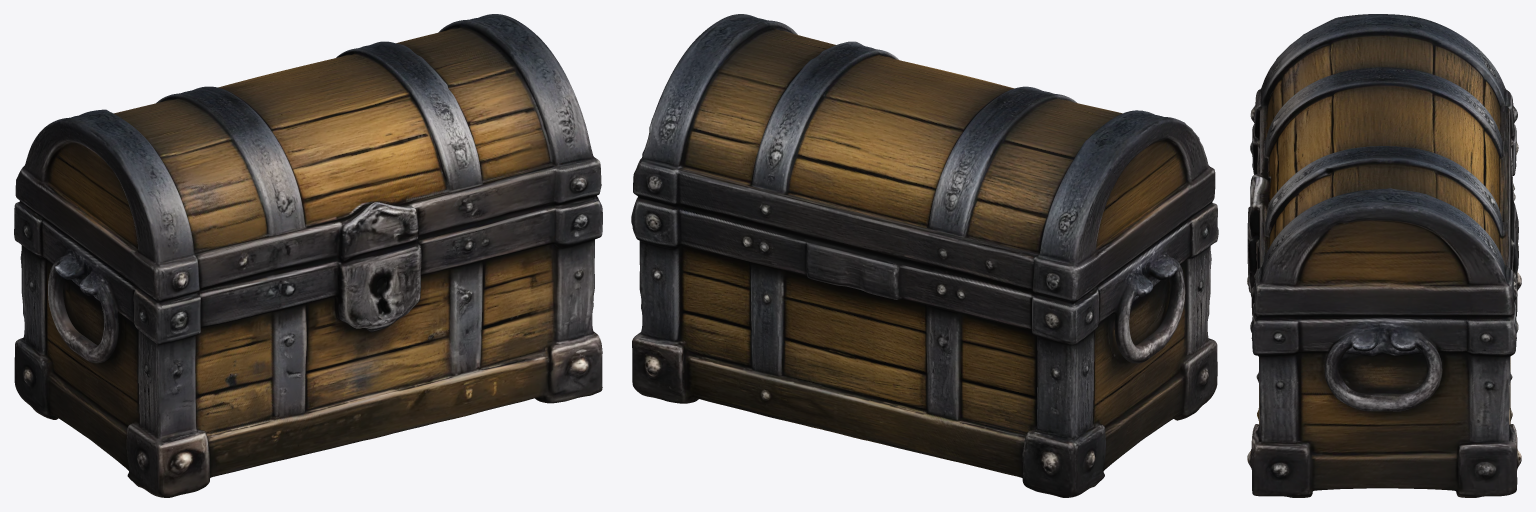
Rendered from chest.glb.
The picture shows the model from 3 angles, left to right: view 1: azimuth 30°, elevation 25°; view 2: azimuth 150°, elevation 25°; view 3: azimuth 270°, elevation 25°; orthographic projection. The views are drawn at different scales.
Visible parts, largest first — view 1: material; view 2: material; view 3: material.
Boxes of the visible parts, bbox=[...] form: material: bbox=[14, 14, 602, 497]; material: bbox=[631, 14, 1218, 497]; material: bbox=[1247, 14, 1521, 497].
Size of the model in its own units: 0.9669 by 0.6315 by 0.5314.
Materials: 1 (1 with a texture image).
